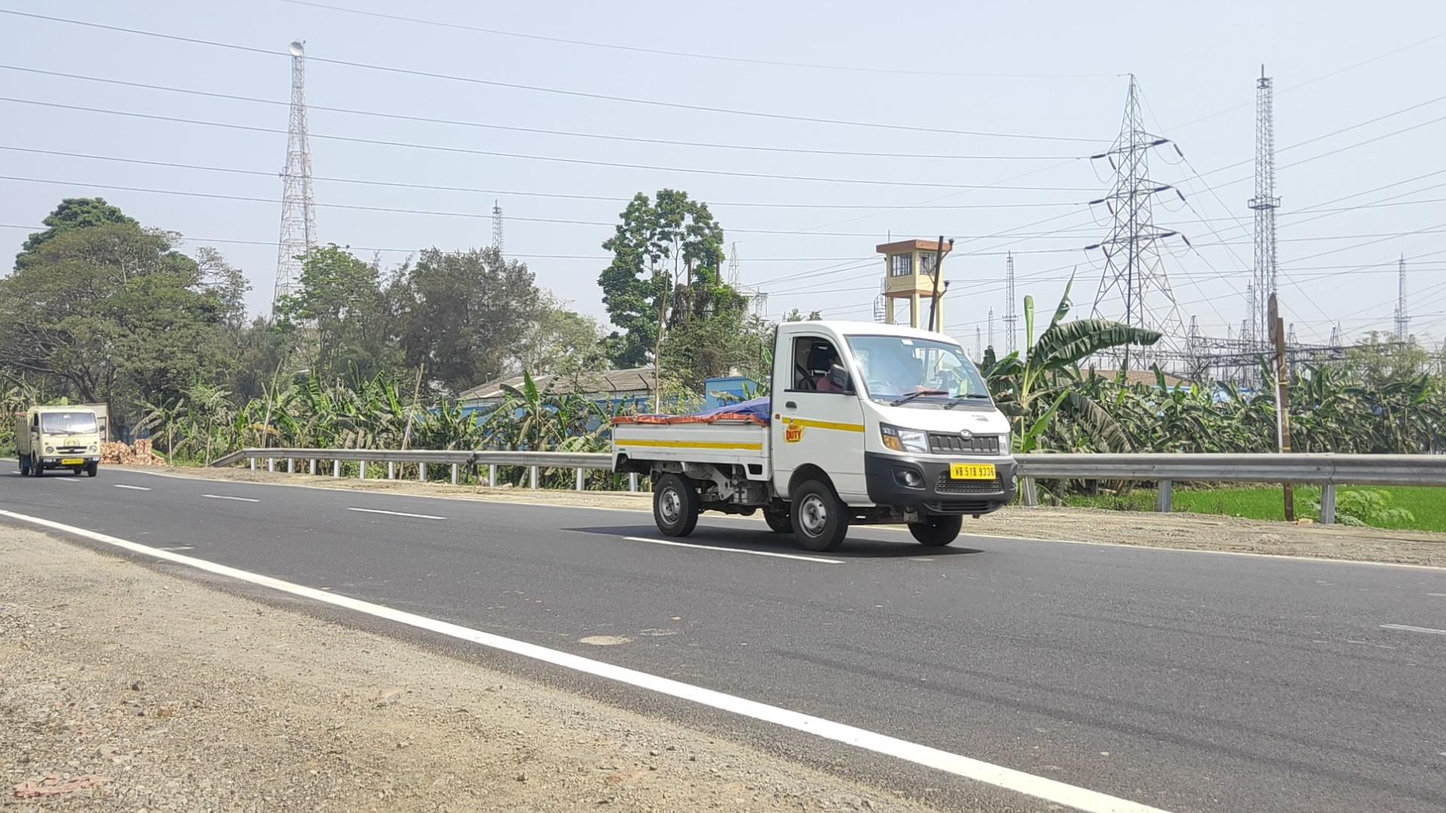van: (611, 320, 1019, 553), (15, 405, 105, 477)
